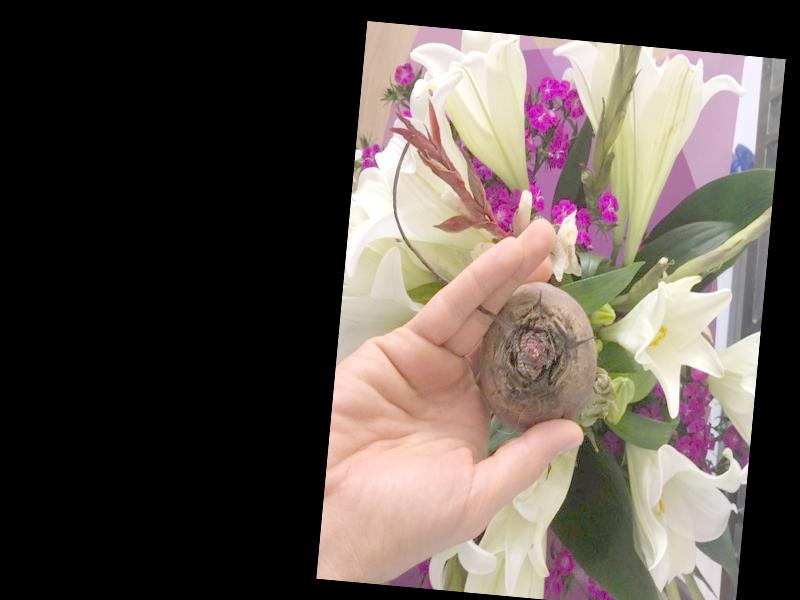Beet: (470, 274, 604, 435)
